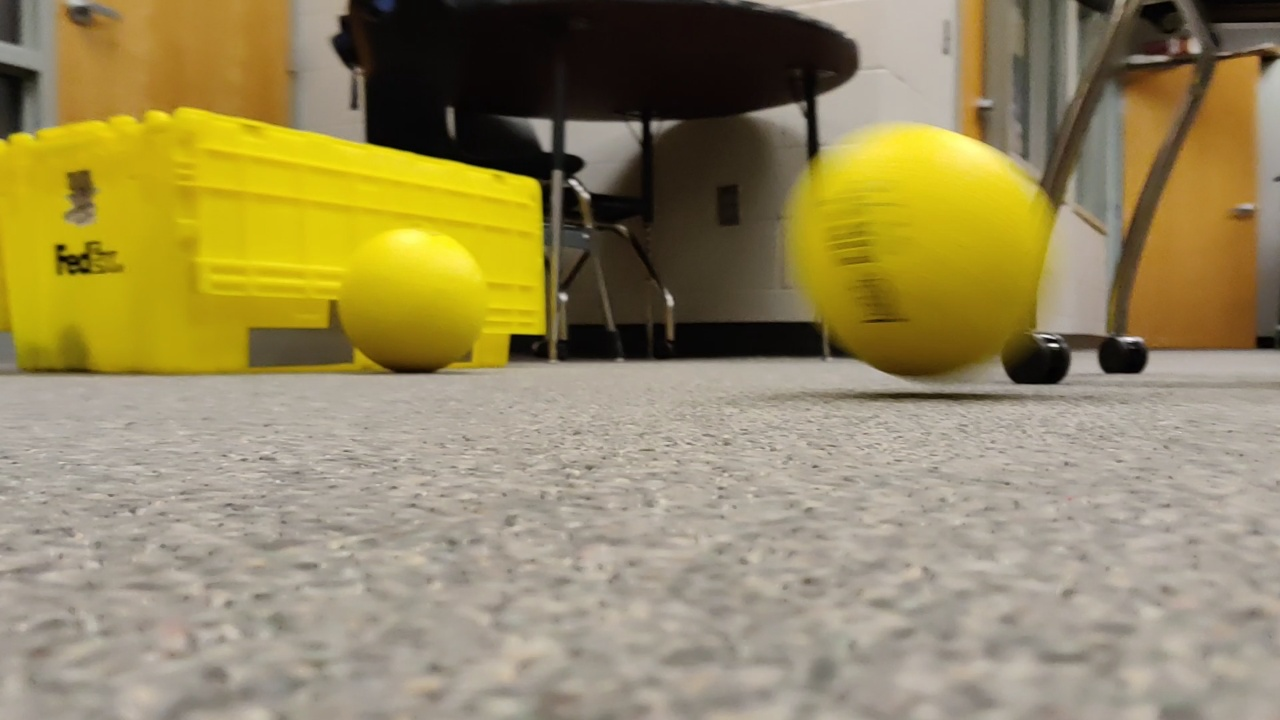Ball: (782, 126, 1040, 364), (339, 231, 487, 380)
